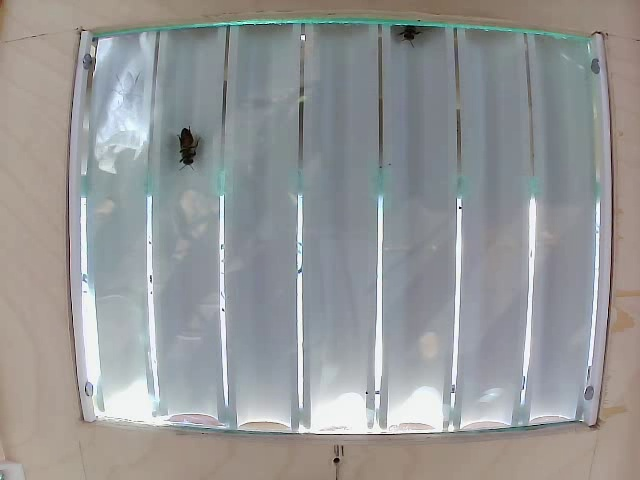bee: (170, 117, 199, 172), (397, 16, 426, 51)
